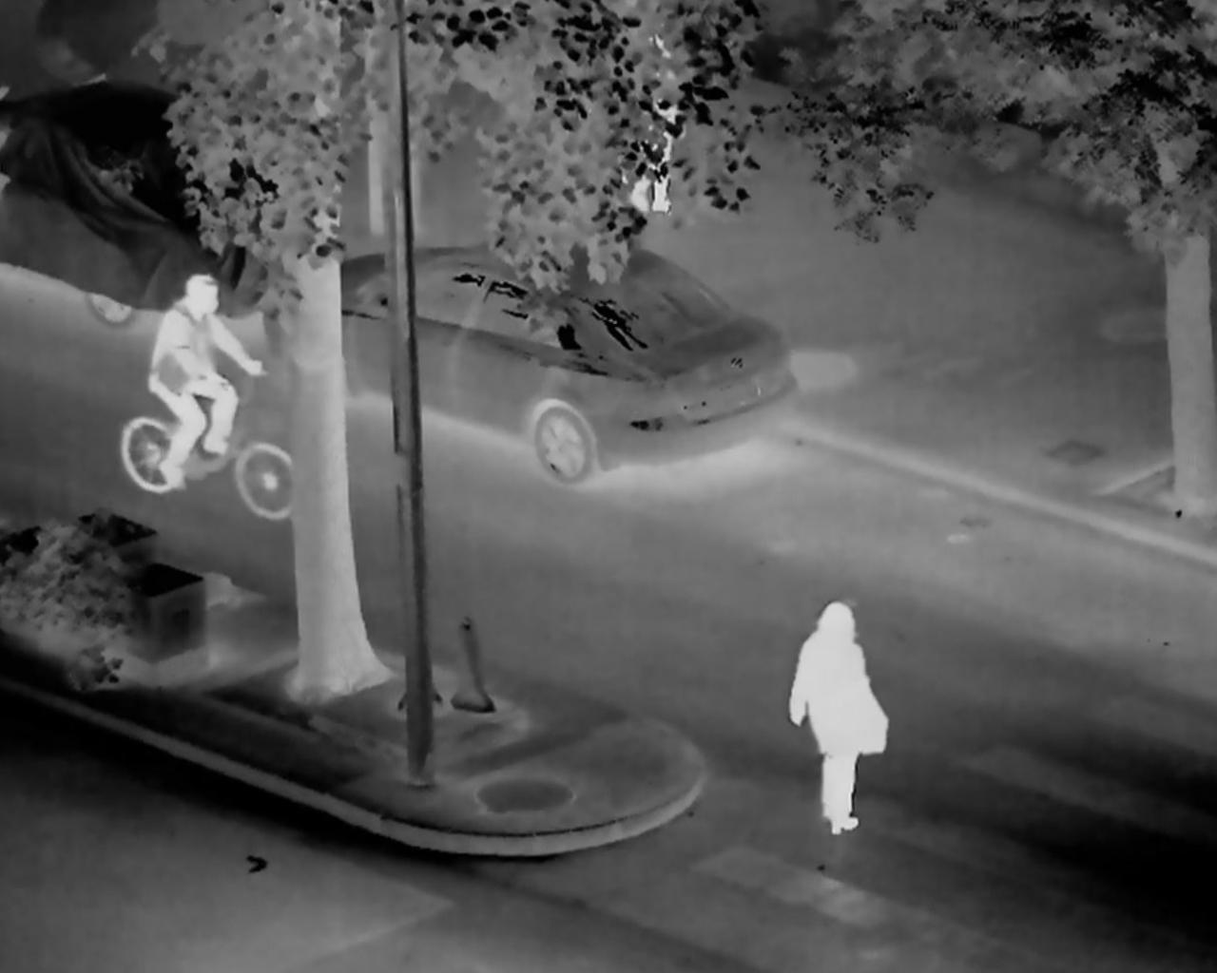person: (782, 588, 896, 843), (145, 267, 262, 506), (606, 8, 696, 231)
